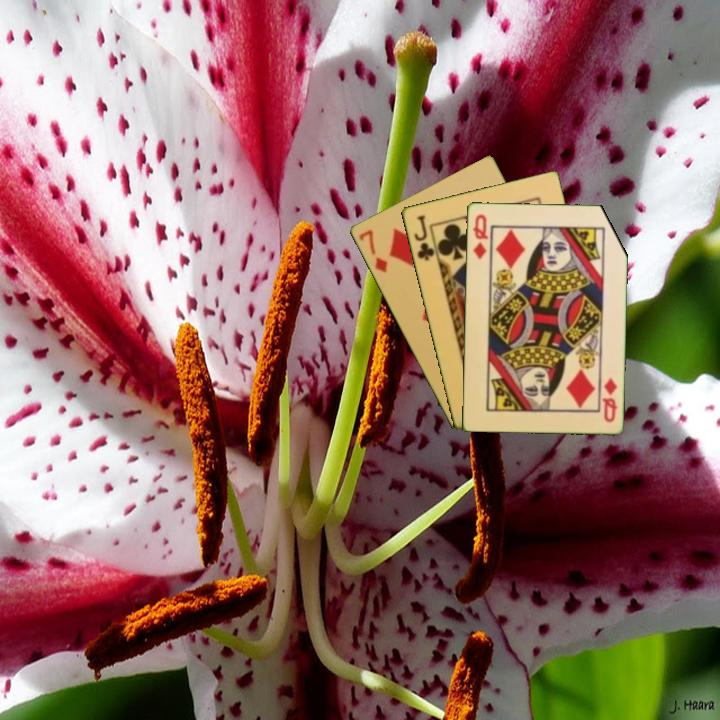7d: (355, 226, 390, 275)
Jc: (410, 211, 437, 263)
Qd: (598, 374, 620, 425), (469, 210, 490, 262)
